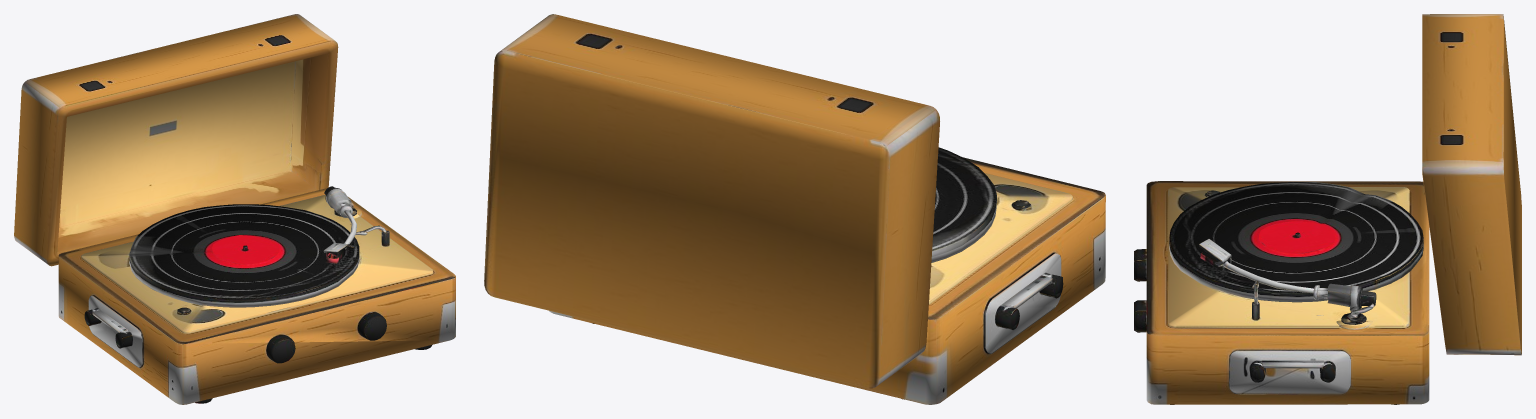
The model's file is record-player.glb.
The picture shows the model from 3 angles, left to right: view 1: azimuth 30°, elevation 25°; view 2: azimuth 150°, elevation 25°; view 3: azimuth 270°, elevation 25°; orthographic projection. The views are drawn at different scales.
Size of the model in its own units: 0.9575 by 0.6626 by 0.9336.
1 material, 1 textured.
